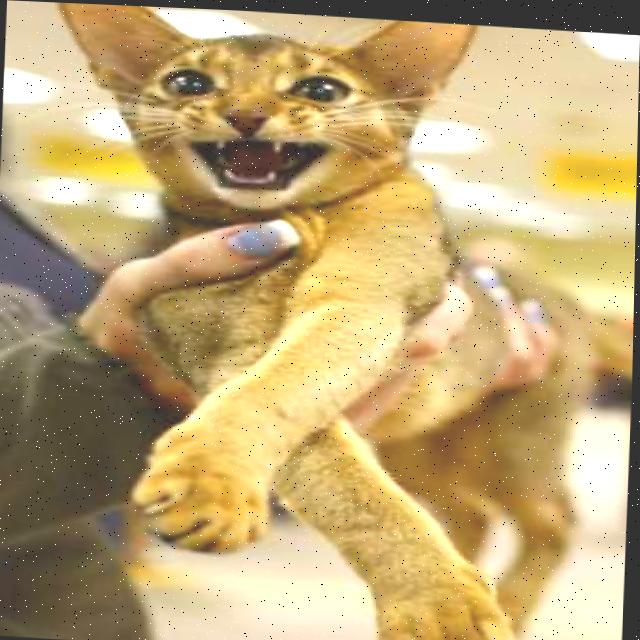Abyssinian: (21, 1, 630, 640)
